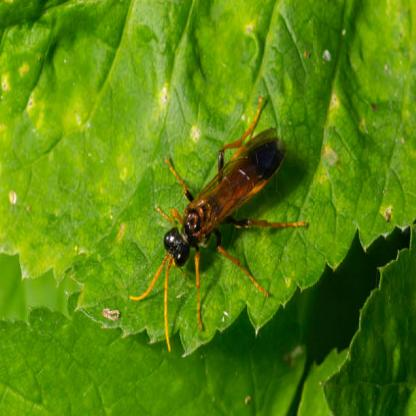sawfly: (129, 95, 311, 350)
